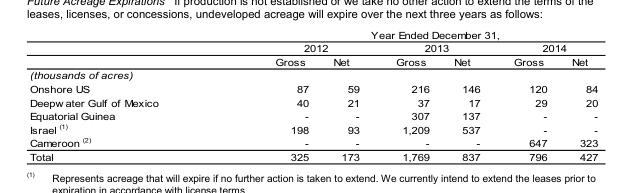table: (29, 28, 597, 161)
table column: (29, 28, 216, 161), (216, 28, 320, 161), (377, 28, 441, 161), (496, 28, 558, 161), (320, 28, 377, 161), (441, 28, 496, 161), (558, 28, 597, 161)
table column header: (29, 28, 597, 68)
table projected row header: (29, 68, 597, 81)
table row: (29, 54, 597, 68), (29, 81, 597, 95), (29, 121, 597, 135), (29, 135, 597, 149), (29, 28, 597, 41), (29, 41, 597, 54), (29, 68, 597, 81), (29, 95, 597, 108), (29, 108, 597, 121), (29, 149, 597, 161)
table spanning cell: (216, 28, 597, 41), (216, 41, 377, 54), (377, 41, 496, 54), (496, 41, 597, 54)
